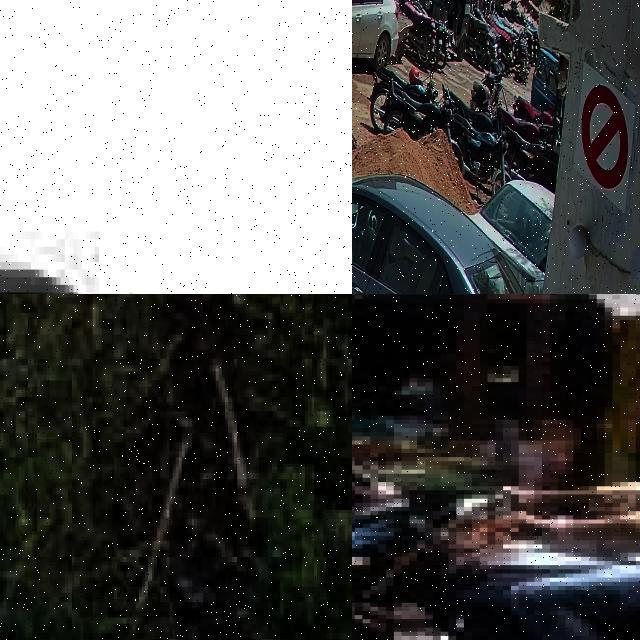bike: (0, 0, 163, 294), (352, 478, 640, 640), (352, 427, 401, 598), (368, 61, 434, 134), (382, 78, 453, 143), (452, 107, 507, 188), (448, 85, 502, 133), (399, 0, 436, 65), (512, 95, 560, 145), (506, 124, 546, 180), (501, 109, 546, 148), (470, 73, 503, 113), (468, 13, 489, 65)
car: (352, 171, 536, 294), (472, 180, 551, 294)
